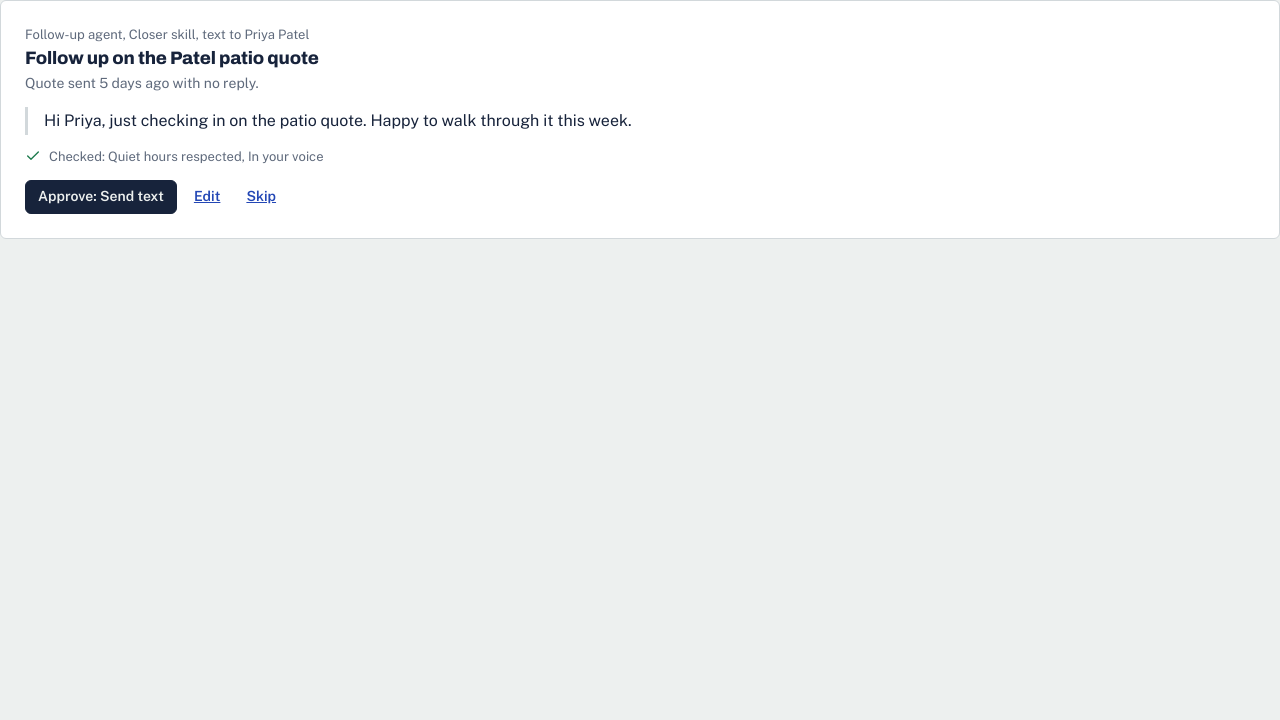
Test: AgentCard › says the send failed and why, then offers to send it from the owner's phone
Click the button "Approve: Send text": (101,197) [25,180,177,214]
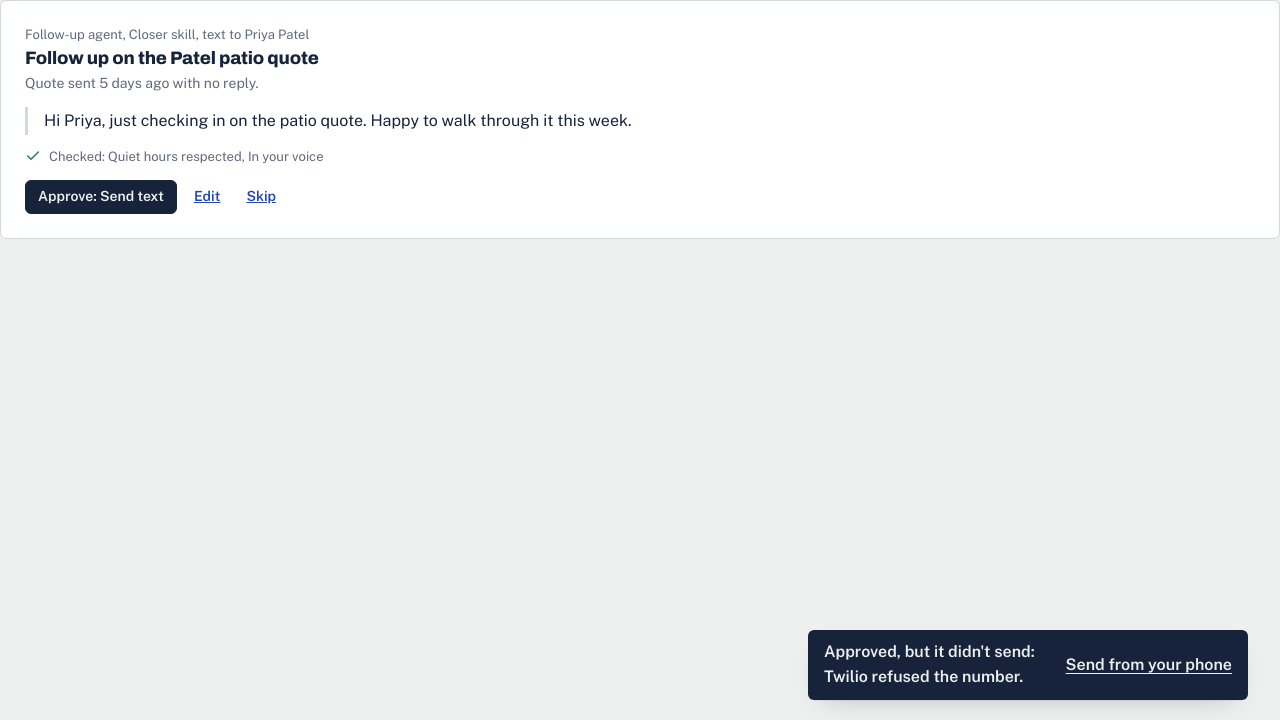
Result: the link "Send from your phone" is shown at [1066,653,1232,678]
